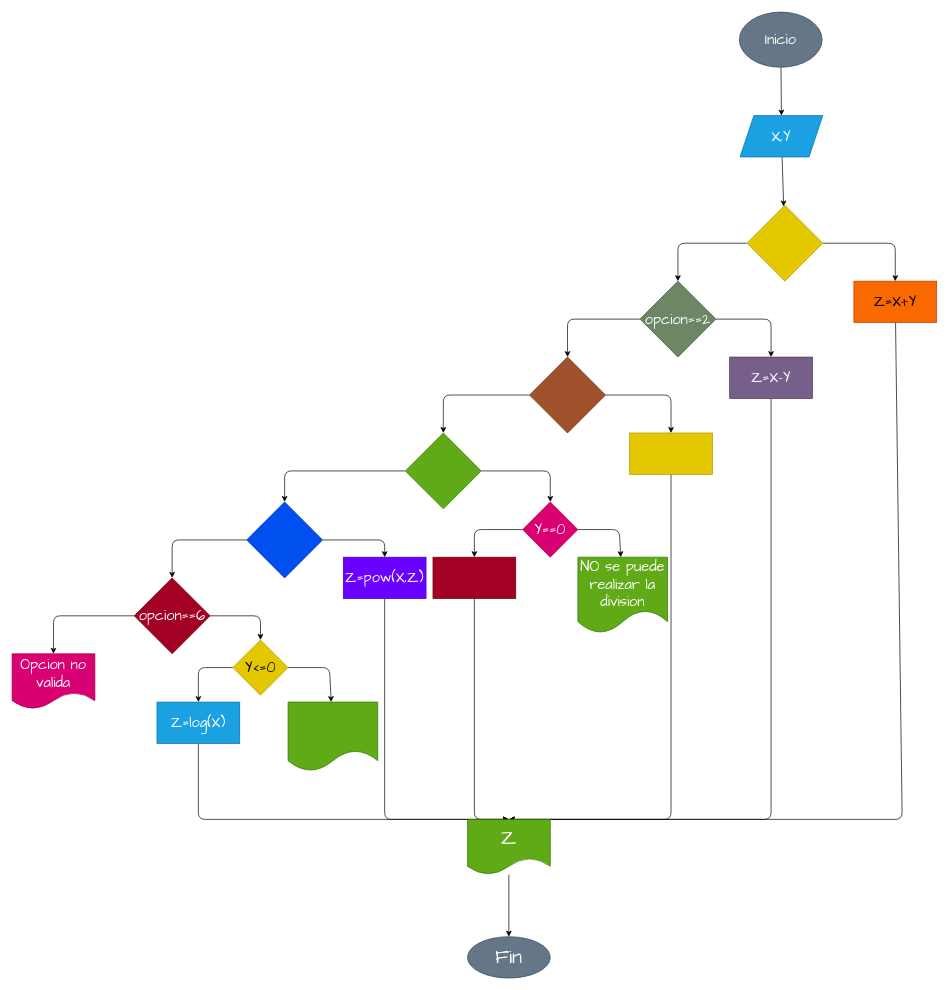
Some shapes in this 949 by 990 pixel diagram are drawn without their labels. The box of each missing label's shape, as (x1, y1, x2, y2) in pixels:
NO se puede calcular el algoritmo: (287, 701, 378, 771)
opcion==1: (746, 205, 823, 281)
opcion==3: (529, 356, 605, 433)
opcion==4: (405, 432, 481, 509)
opcion==5: (246, 501, 323, 578)
Z=X*Y: (629, 432, 712, 474)
Z=X/Y: (432, 556, 516, 599)
